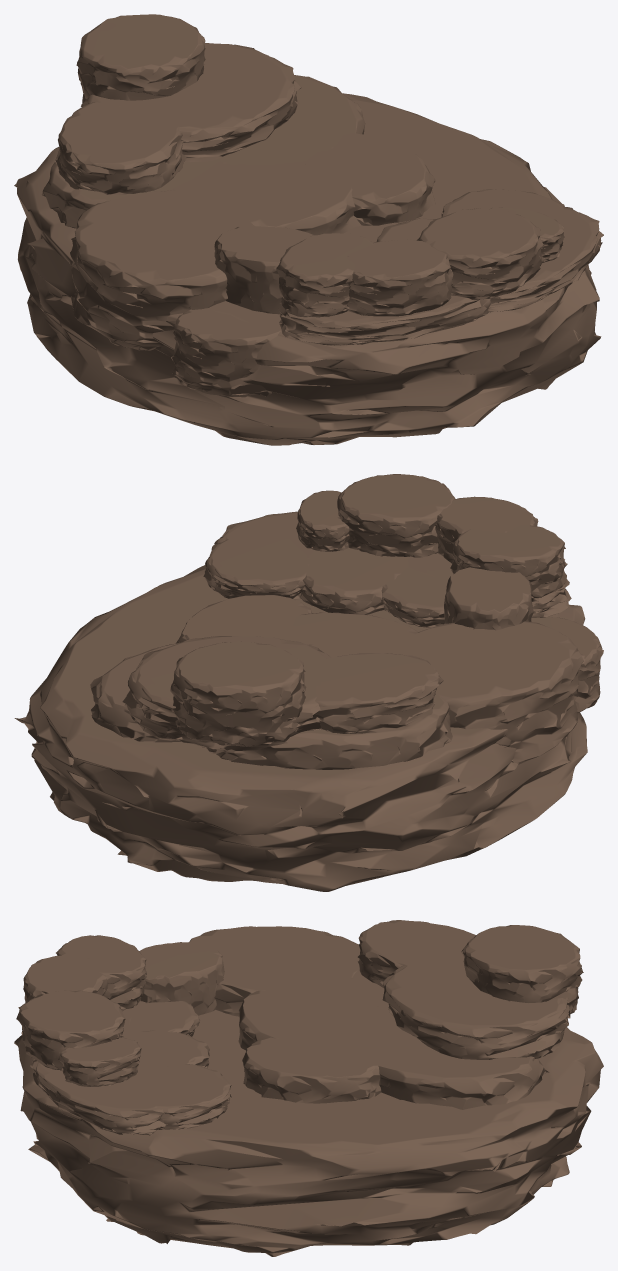
File: Delia_Scene_bi.fbx
3 renders of one model, top to bottom at view 1: azimuth 30°, elevation 25°; view 2: azimuth 150°, elevation 25°; view 3: azimuth 270°, elevation 25°, orthographic. The views are drawn at different scales.
Parts seen in each view (by area): view 1: comic_rock_zylinder, comic_rock_zylinder__6_, comic_rock_zylinder__16_, comic_rock_zylinder__17_, comic_rock_zylinder__18_, comic_rock_zylinder__5_, comic_rock_zylinder__9_, comic_rock_zylinder__1_, comic_rock_zylinder__12_, comic_rock_zylinder__8_, comic_rock_zylinder__10_, comic_rock_zylinder__15_ (+7 smaller); view 2: comic_rock_zylinder, comic_rock_zylinder__6_, comic_rock_zylinder__18_, comic_rock_zylinder__17_, comic_rock_zylinder__9_, comic_rock_zylinder__11_, comic_rock_zylinder__16_, comic_rock_zylinder__2_, comic_rock_zylinder__15_, comic_rock_zylinder__3_, comic_rock_zylinder__7_, comic_rock_zylinder__5_ (+8 smaller); view 3: comic_rock_zylinder, comic_rock_zylinder__16_, comic_rock_zylinder__10_, comic_rock_zylinder__6_, comic_rock_zylinder__1_, comic_rock_zylinder__18_, comic_rock_zylinder__5_, comic_rock_zylinder__9_, comic_rock_zylinder__13_, comic_rock_zylinder__17_, comic_rock_zylinder__2_, comic_rock_zylinder__7_ (+6 smaller).
Part boxes in pixels (x1,y1,x2,y2): comic_rock_zylinder: [14, 93, 601, 445]; comic_rock_zylinder__6_: [70, 190, 254, 350]; comic_rock_zylinder__16_: [81, 43, 301, 162]; comic_rock_zylinder__17_: [55, 102, 186, 194]; comic_rock_zylinder__18_: [76, 14, 205, 103]; comic_rock_zylinder__5_: [172, 161, 361, 235]; comic_rock_zylinder__9_: [416, 208, 543, 300]; comic_rock_zylinder__1_: [304, 133, 435, 225]; comic_rock_zylinder__12_: [346, 239, 453, 316]; comic_rock_zylinder__8_: [171, 309, 280, 397]; comic_rock_zylinder__10_: [218, 75, 365, 165]; comic_rock_zylinder__15_: [276, 233, 373, 317]; comic_rock_zylinder: [14, 565, 587, 891]; comic_rock_zylinder__6_: [402, 621, 584, 764]; comic_rock_zylinder__18_: [170, 641, 306, 746]; comic_rock_zylinder__17_: [315, 653, 443, 733]; comic_rock_zylinder__9_: [337, 474, 455, 557]; comic_rock_zylinder__11_: [206, 694, 452, 769]; comic_rock_zylinder__16_: [122, 636, 330, 750]; comic_rock_zylinder__2_: [203, 535, 309, 600]; comic_rock_zylinder__15_: [450, 524, 567, 598]; comic_rock_zylinder__3_: [300, 548, 408, 614]; comic_rock_zylinder__7_: [444, 567, 533, 630]; comic_rock_zylinder__5_: [281, 612, 417, 657]; comic_rock_zylinder: [14, 1010, 603, 1256]; comic_rock_zylinder__16_: [380, 954, 570, 1059]; comic_rock_zylinder__10_: [347, 1006, 549, 1109]; comic_rock_zylinder__6_: [189, 926, 360, 1016]; comic_rock_zylinder__1_: [242, 1033, 381, 1103]; comic_rock_zylinder__18_: [461, 925, 583, 1015]; comic_rock_zylinder__5_: [238, 977, 382, 1050]; comic_rock_zylinder__9_: [16, 990, 125, 1070]; comic_rock_zylinder__13_: [30, 1059, 167, 1135]; comic_rock_zylinder__17_: [357, 920, 475, 987]; comic_rock_zylinder__2_: [124, 1064, 231, 1129]; comic_rock_zylinder__7_: [139, 942, 225, 1015].
Bounding box in the file's own units: 18800 × 8485 × 22144.
